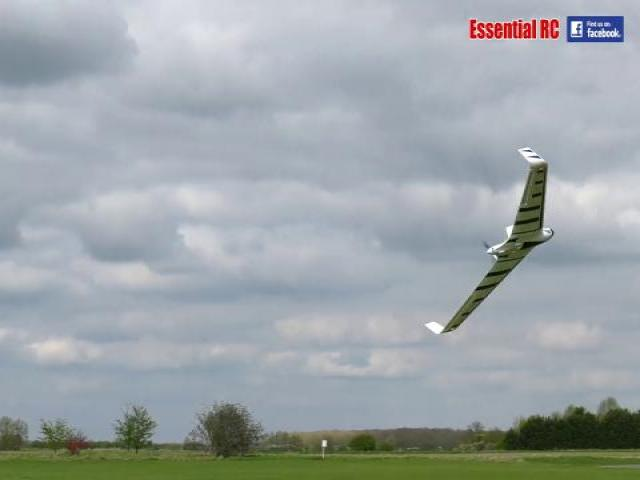flying wing: (353, 166, 370, 210)
